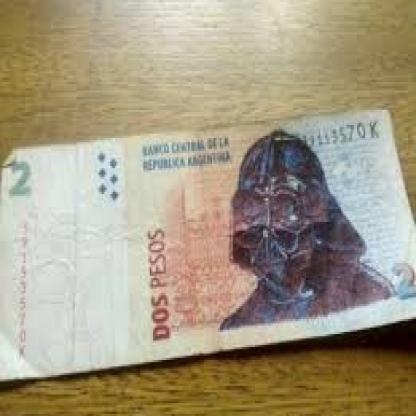billete: (0, 107, 414, 381)
